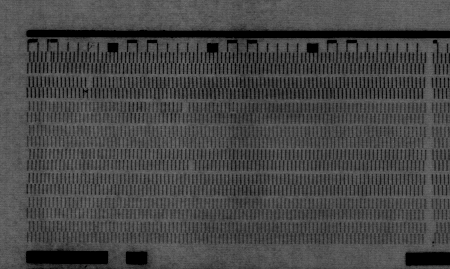Broken hole: (83, 76, 95, 89), (185, 160, 198, 171), (181, 102, 190, 113)
